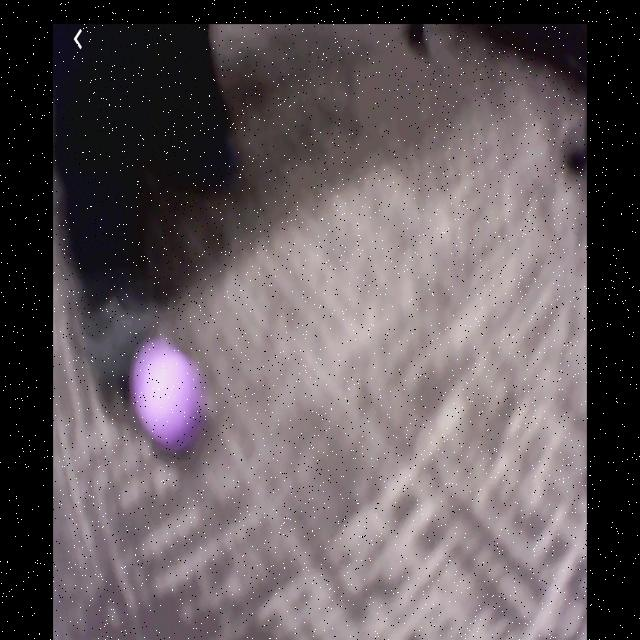ball: (130, 336, 206, 456)
